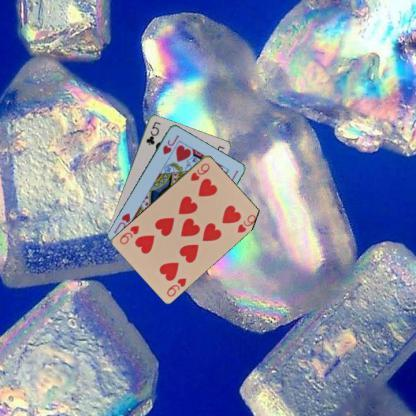5c: (143, 119, 162, 146)
9h: (164, 275, 188, 298), (188, 160, 211, 182)
Jh: (160, 132, 180, 156)
